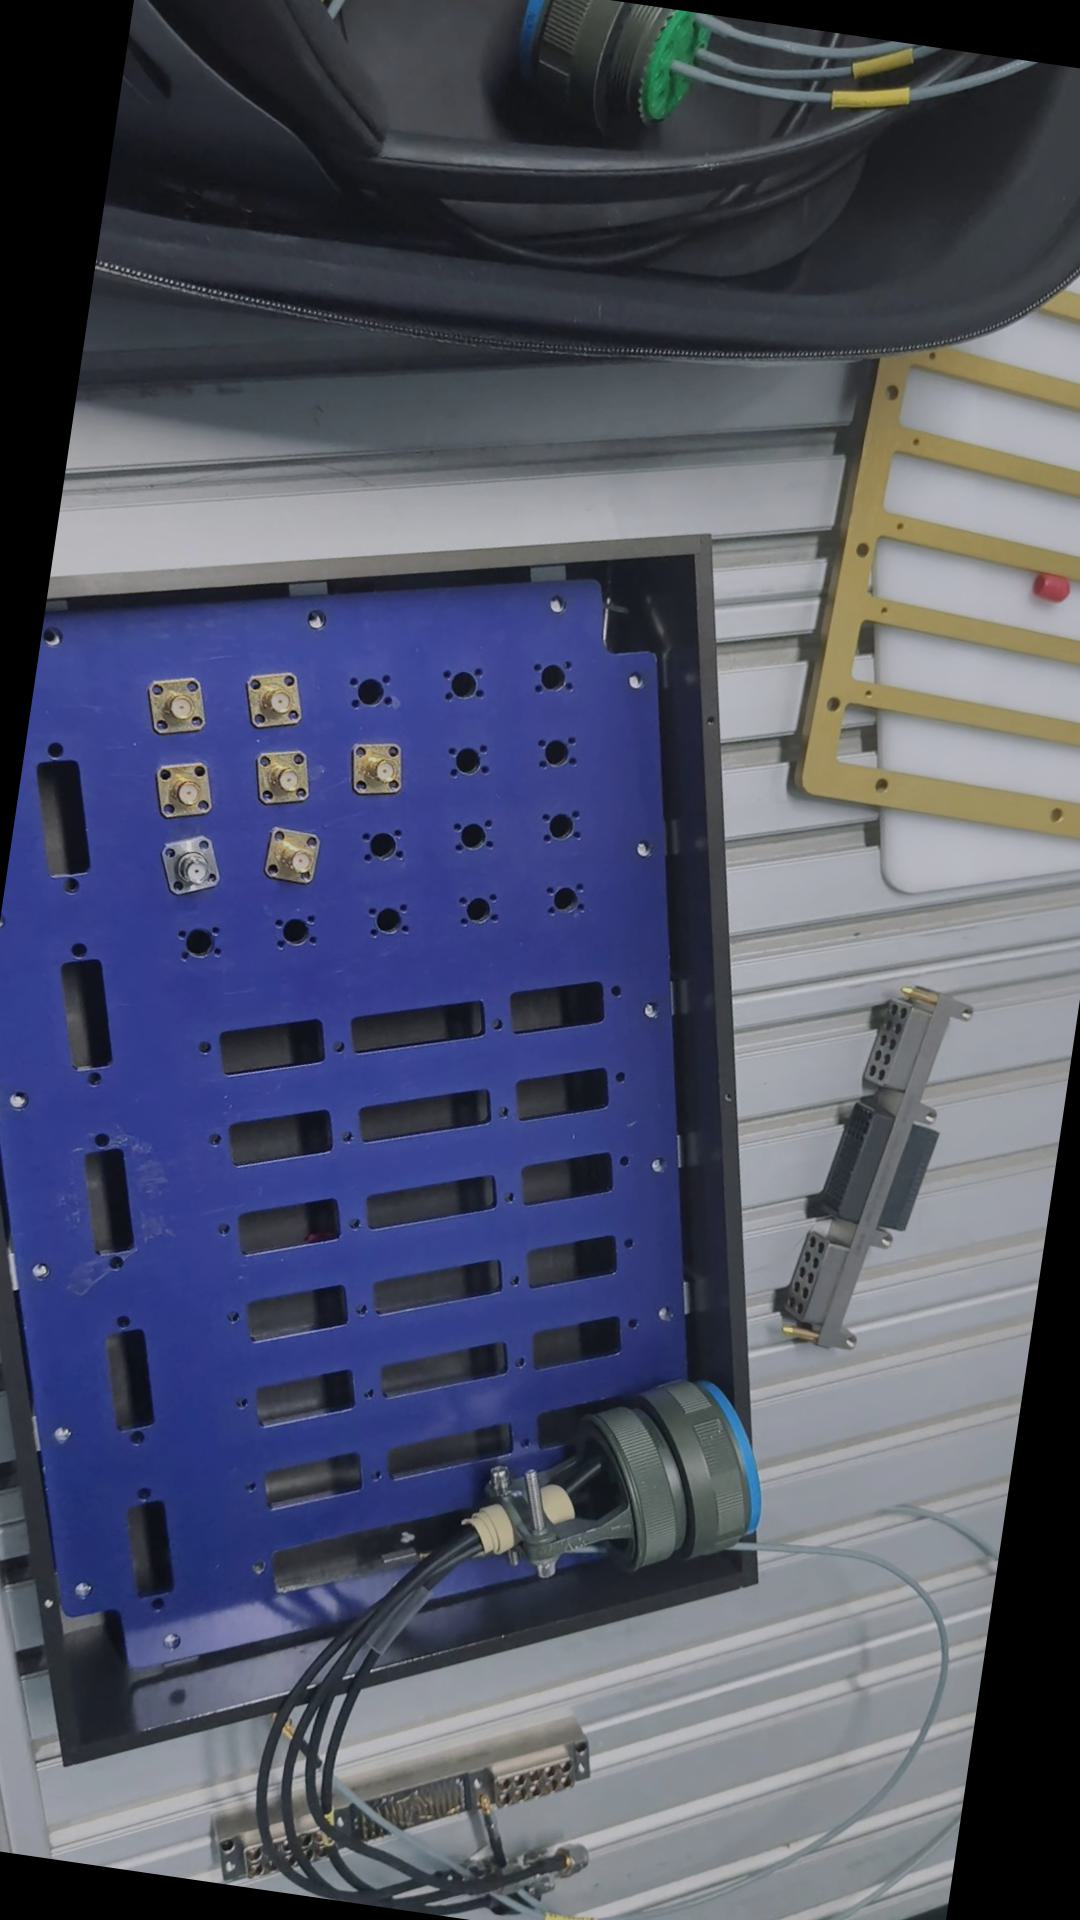SMA: (141, 670, 218, 740), (239, 666, 315, 736), (261, 822, 334, 891), (152, 761, 222, 827), (345, 735, 415, 799), (161, 831, 227, 897), (255, 746, 318, 811)
